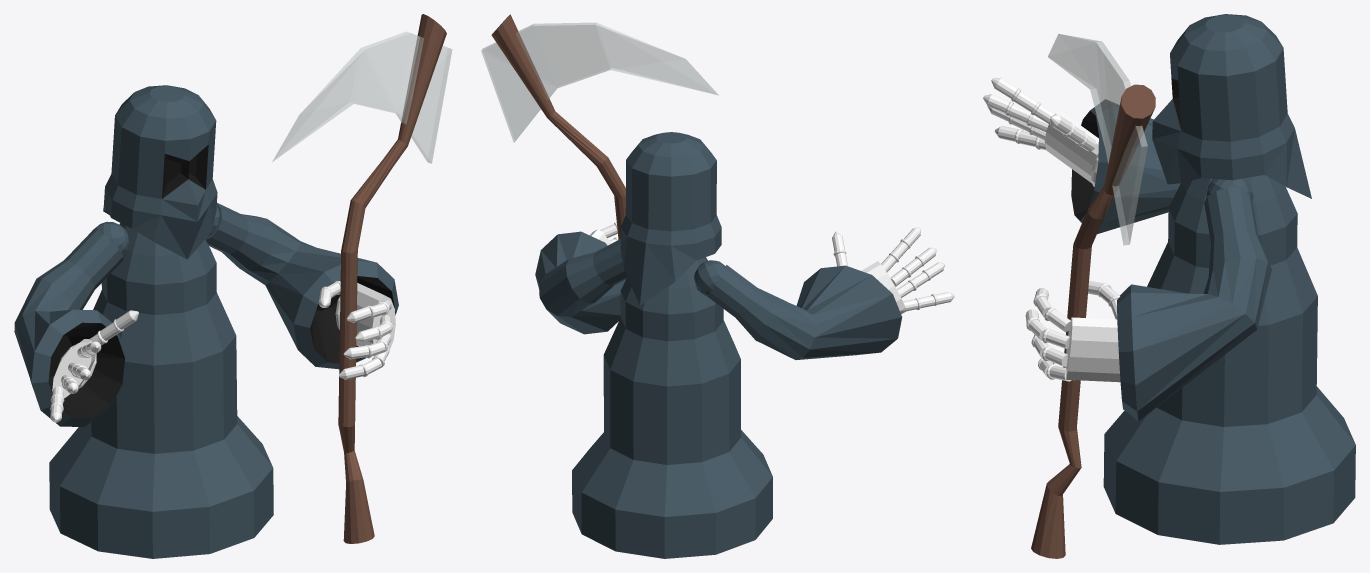
Rendered from La mort.fbx.
3 views of the same model, side by side, from view 1: azimuth 30°, elevation 25°; view 2: azimuth 150°, elevation 25°; view 3: azimuth 270°, elevation 25° (orthographic). The views are drawn at different scales.
Parts seen in each view (by area): view 1: La mort; view 2: La mort; view 3: La mort.
Boxes of the visible parts, x1,y1,x2,y2 form: La mort: [14, 14, 452, 558]; La mort: [481, 14, 954, 558]; La mort: [983, 14, 1355, 558].
Size of the model in its own units: 403 by 394 by 250.
